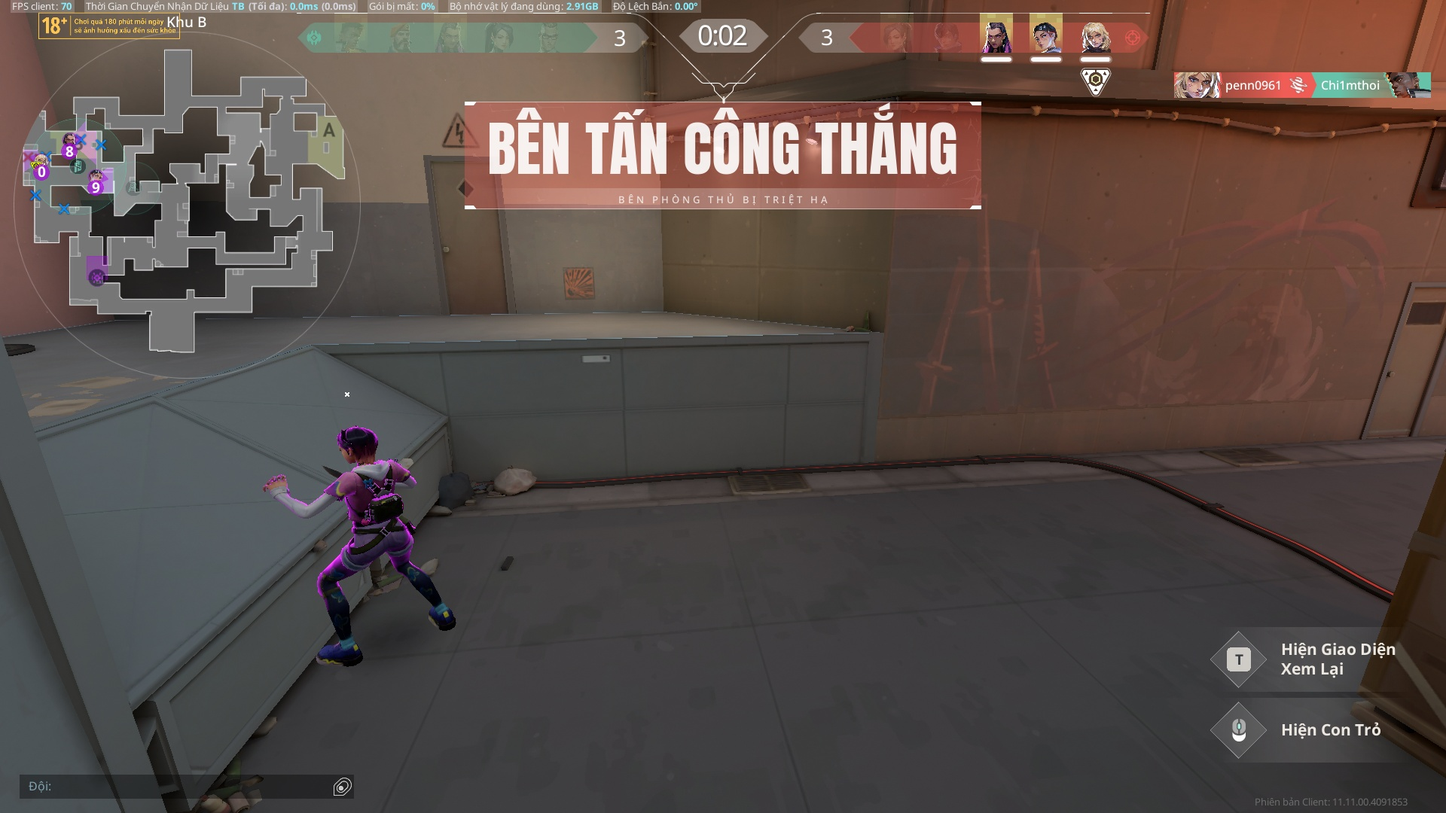body: (332, 458, 409, 544)
head: (339, 423, 383, 464)
